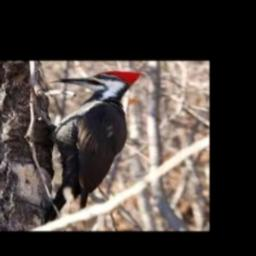Woodpecker: (47, 71, 141, 224)
